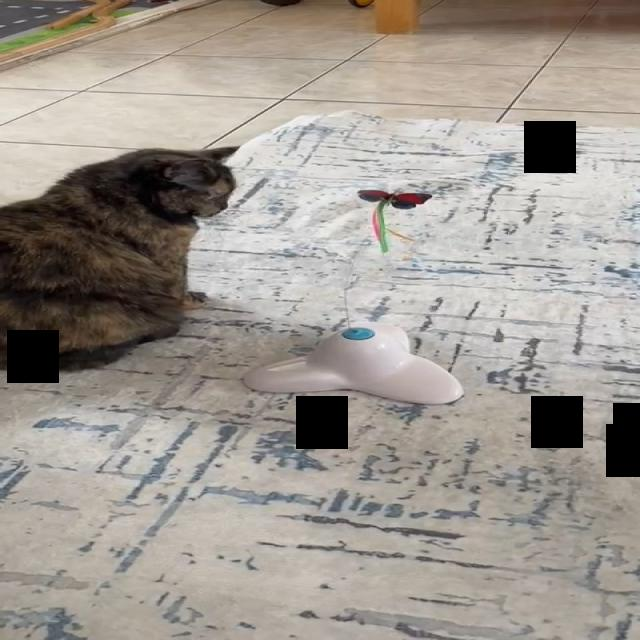authorized: (0, 145, 240, 372)
